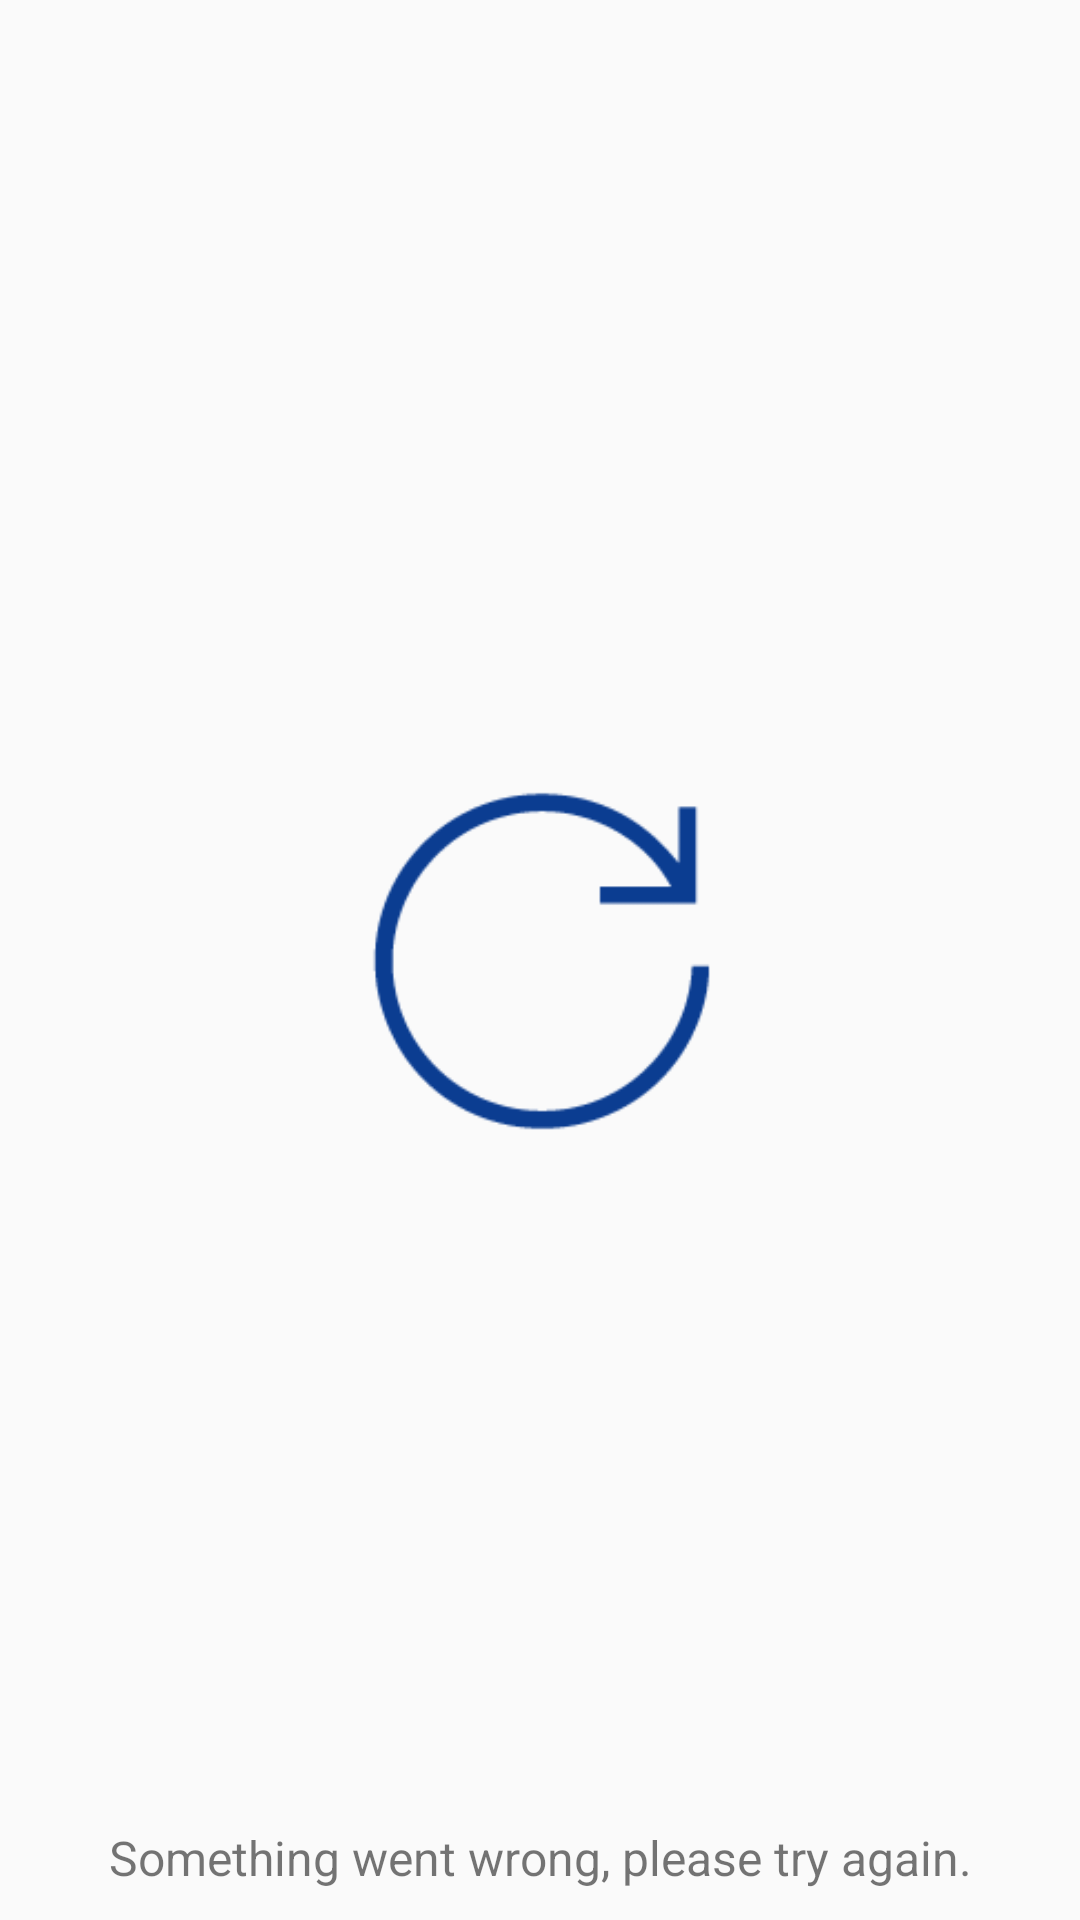

Screen size 1080x1920. Icon name, then its center in pixels as [x,y]:
retry: [541,961]
